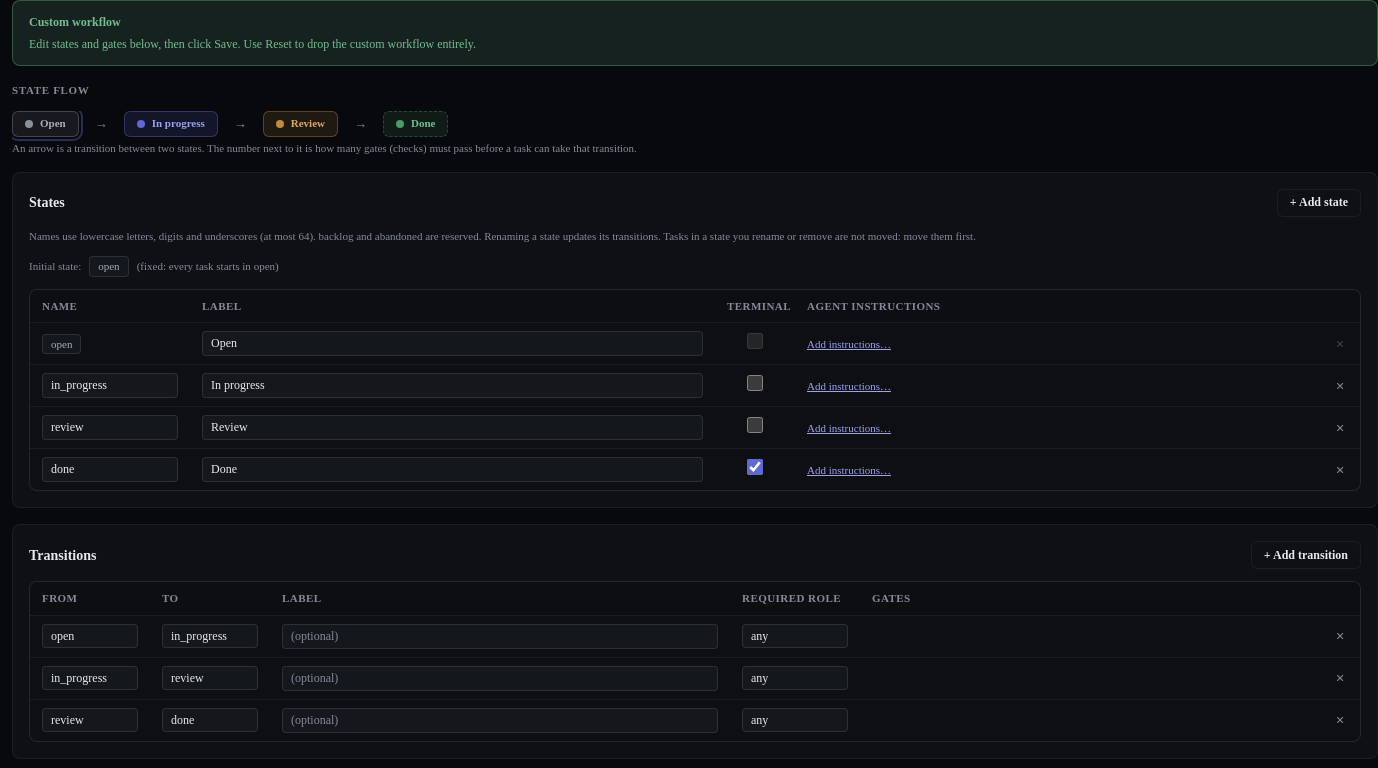
it: workflow page: rename › rewrites the from and to of every transition that referenced the old name
expect the button "+ Add state" is shown: met, box [1277,189,1361,217]
Replace the text in the field named "State name for row 3" with "qa": x=110, y=428 [42,415,178,440]
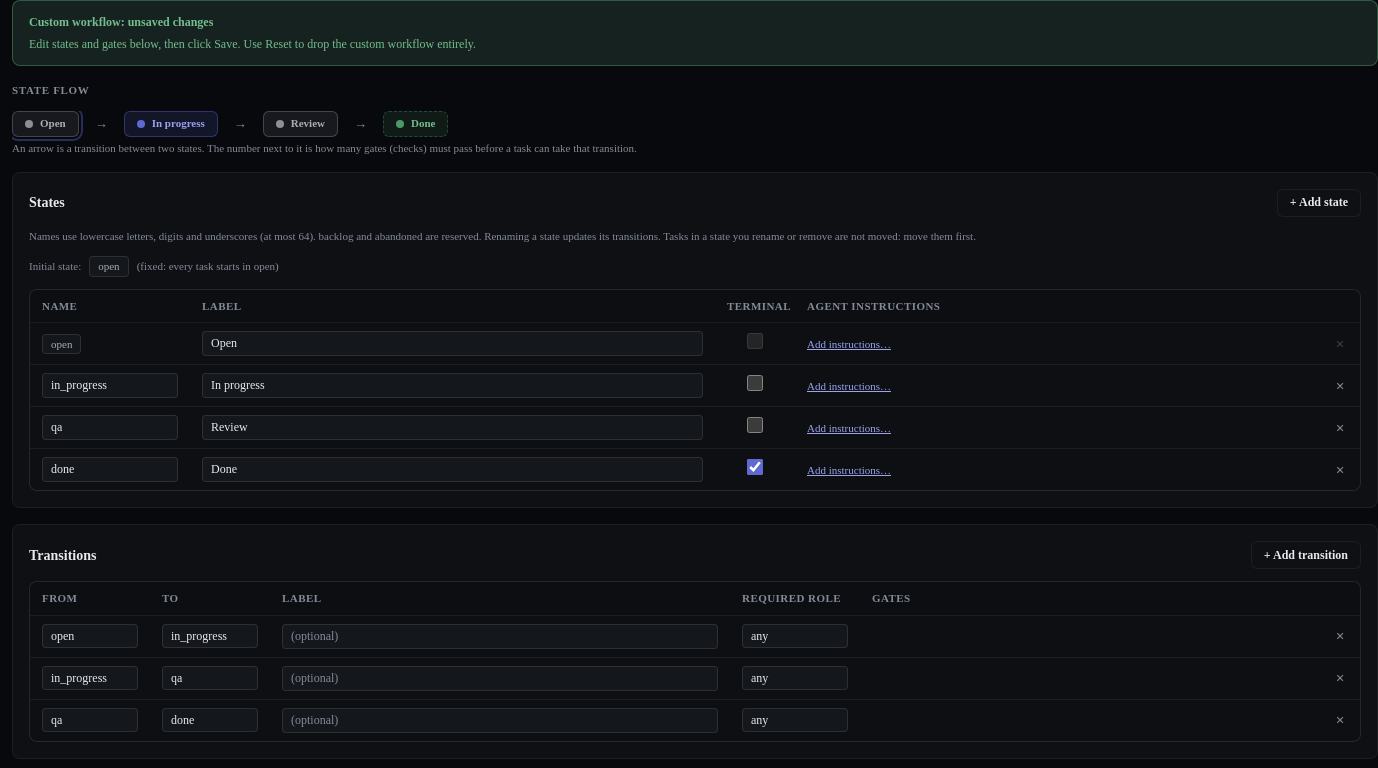
expect the dropdown named "From state for transition 1" shows "open": met, box [42,624,138,648]
expect the dropdown named "To state for transition 2" shows "qa": met, box [162,666,258,690]
expect the dropdown named "From state for transition 3" shows "qa": met, box [42,708,138,732]
